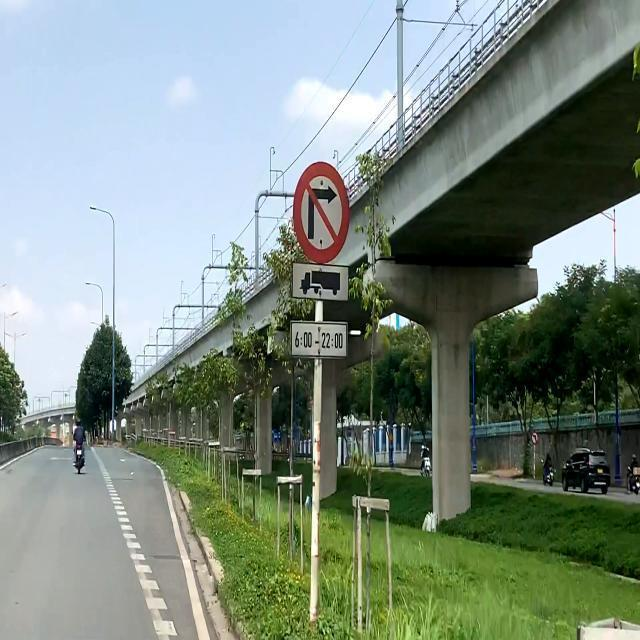123b-cam-re-phai: (290, 160, 354, 260)
